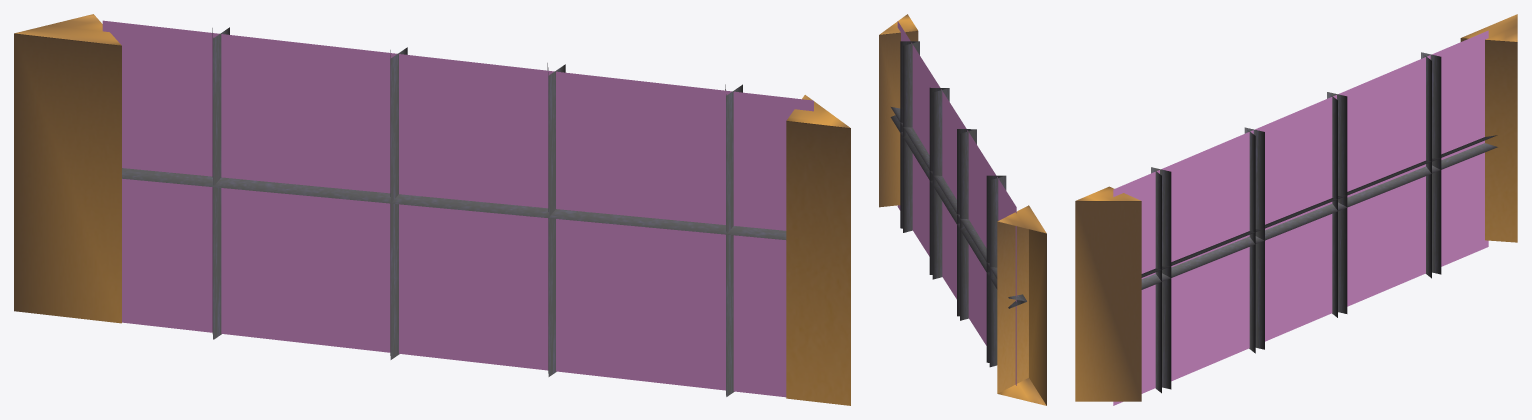
The model's file is VidroParedeLateral.fbx.
The picture shows the model from 3 angles, left to right: view 1: azimuth 30°, elevation 25°; view 2: azimuth 150°, elevation 25°; view 3: azimuth 270°, elevation 25°; orthographic projection. The views are drawn at different scales.
Visible parts, largest first — view 1: Vidro, Parede, GradeVidro; view 2: Parede, GradeVidro, Vidro; view 3: Vidro, Parede, GradeVidro.
Part boxes in pixels (bbox=[...]): Vidro: bbox=[102, 20, 813, 397]; Parede: bbox=[14, 14, 850, 405]; GradeVidro: bbox=[122, 27, 786, 396]; Parede: bbox=[879, 14, 1046, 405]; GradeVidro: bbox=[890, 41, 1026, 367]; Vidro: bbox=[897, 21, 1016, 385]; Vidro: bbox=[1113, 30, 1488, 405]; Parede: bbox=[1075, 14, 1517, 401]; GradeVidro: bbox=[1141, 52, 1497, 393].
Size of the model in its own units: 200 by 109 by 200.
